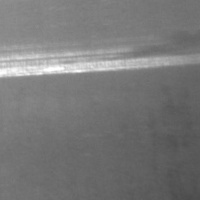scratches: (0, 32, 193, 82)
